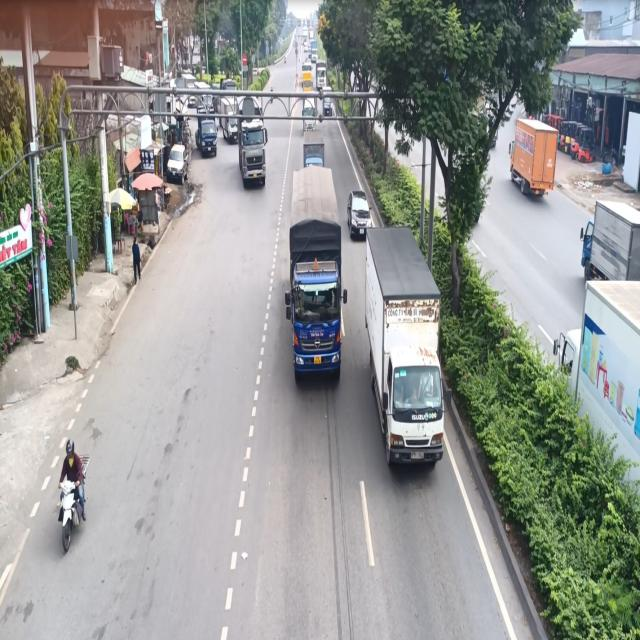motor: (56, 433, 90, 565)
truck: (362, 223, 451, 472), (286, 166, 346, 386), (238, 110, 269, 198)
